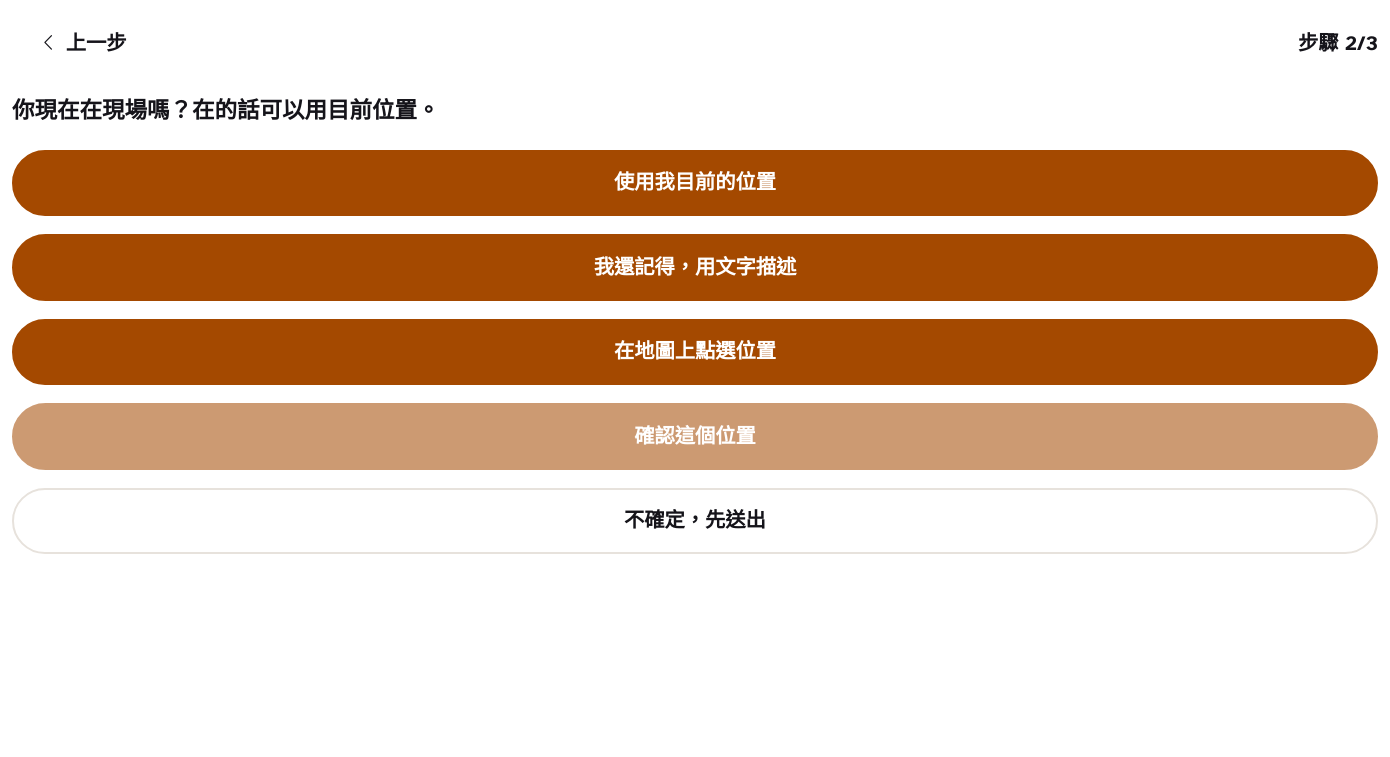
it: LocationStep（P2 確認位置） › 文字找位置失敗時顯示錯誤，並提供「再試一次」下一步
Click the button "我還記得，用文字描述": point(695, 268) [12,234,1378,301]
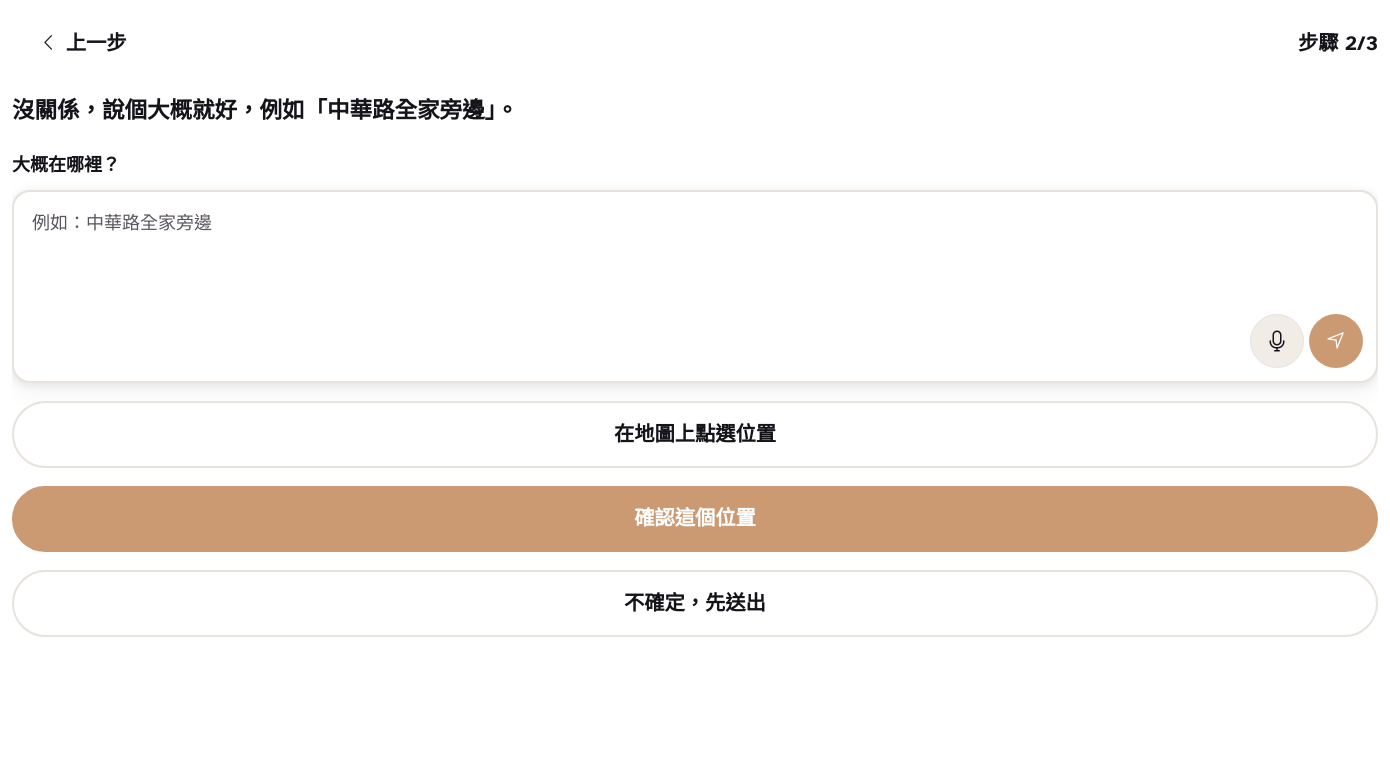
In the text box labelled "大概在哪裡？": point(697, 255) [32,206,1362,305], type "中華路"
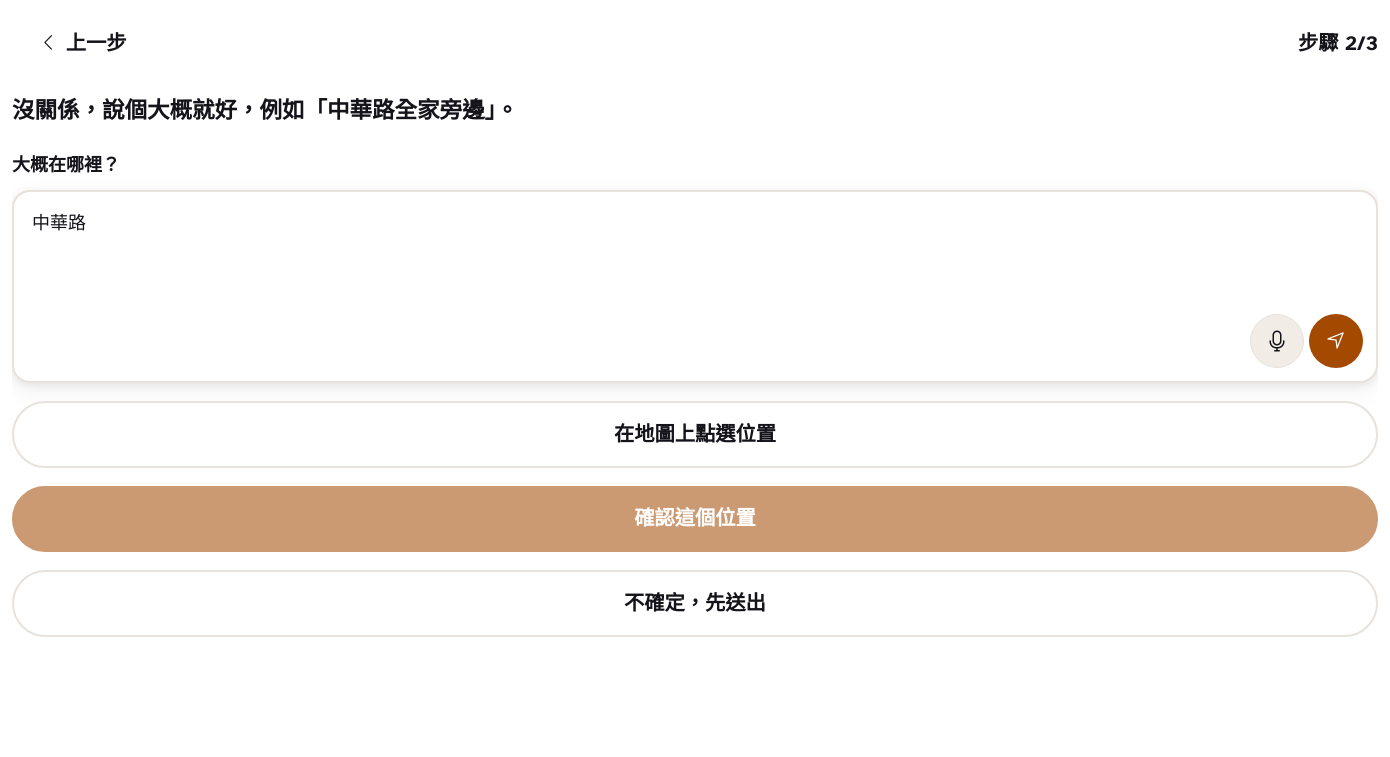
Submit the form, box [12,150,1378,383]
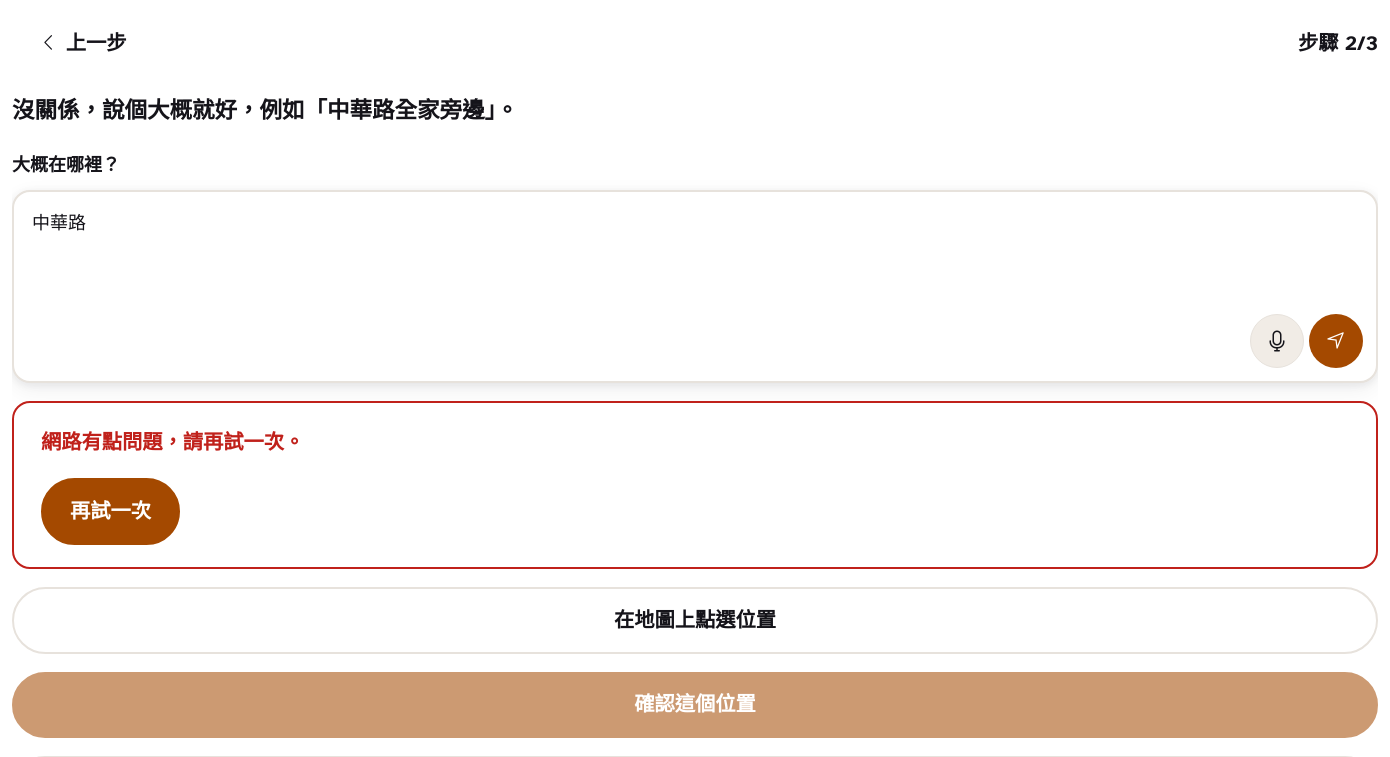
Expected: the button with class "location__retry" reads "再試一次", [41,478,180,545]
